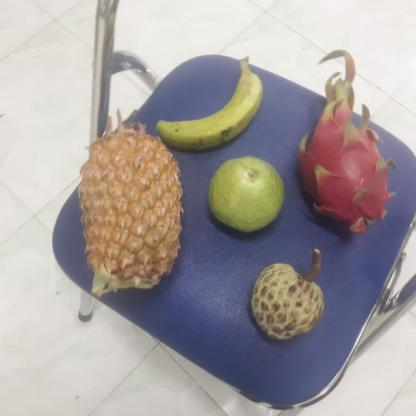annona: (245, 261, 324, 341)
banana: (152, 55, 260, 148)
guava: (203, 155, 284, 232)
pineapple: (75, 136, 182, 292)
pitaya: (292, 104, 387, 240)
